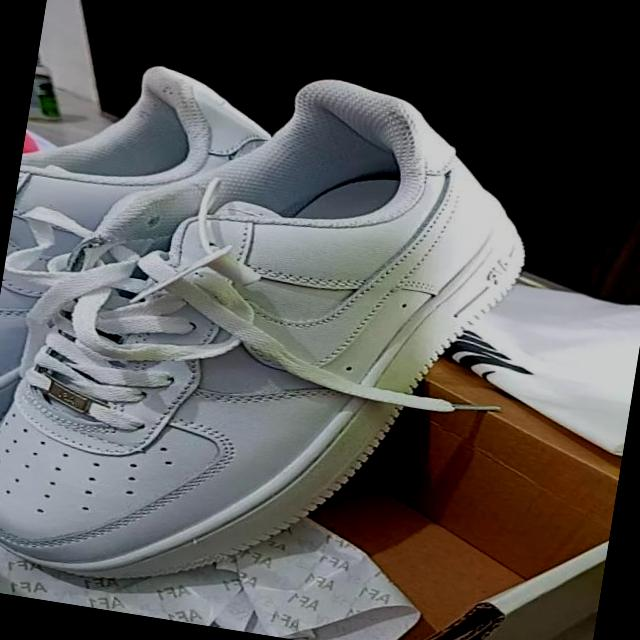nike_fake_airforce: (0, 35, 547, 635)
